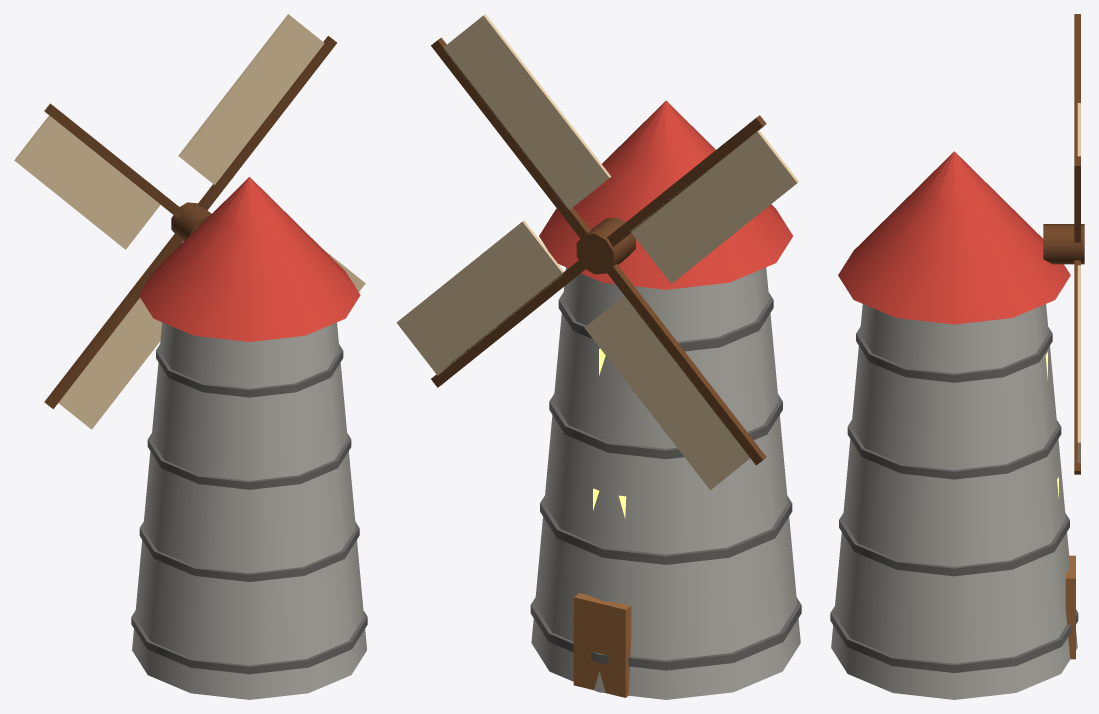
The model's file is HavenWindmill.glb.
3 views of the same model, side by side, from view 1: azimuth 30°, elevation 25°; view 2: azimuth 150°, elevation 25°; view 3: azimuth 270°, elevation 25° (orthographic). The views are drawn at different scales.
Parts seen in each view (by area): view 1: Body, Blades; view 2: Body, Blades; view 3: Body, Blades.
Part boxes in pixels (<box>): Body: <box>131,177,367,699</box>; Blades: <box>14,14,365,429</box>; Body: <box>530,100,801,699</box>; Blades: <box>396,14,798,489</box>; Body: <box>830,151,1078,699</box>; Blades: <box>1043,14,1084,474</box>.
Bounding box in the file's own units: 12.37 × 19.19 × 7.42.
Materials: 3 (2 with a texture image).
